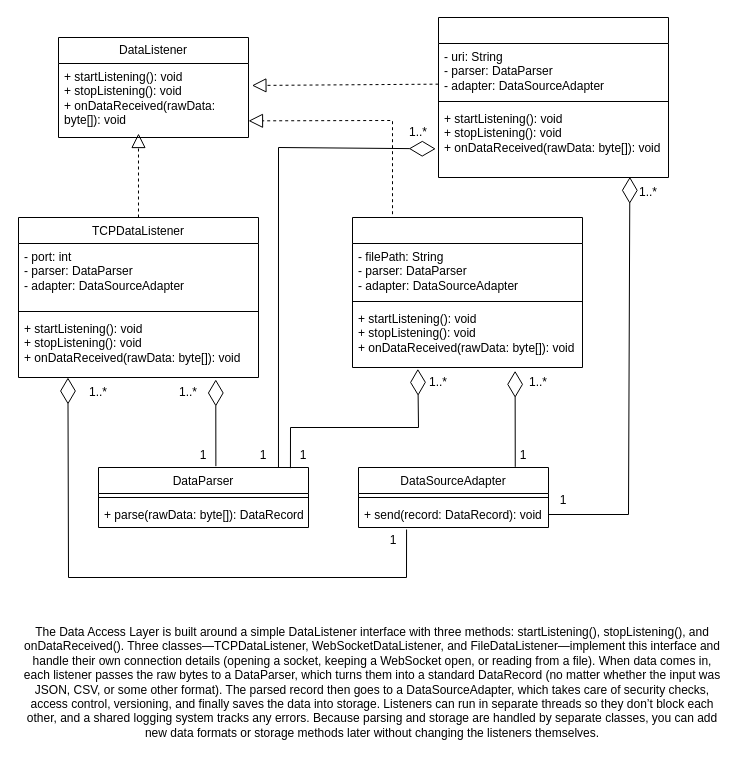
This 744x757 diagram has some shape labels left out. The box of each missing label's shape, as (x1, y1, x2, y2) in pixels:
FileDataListener: (352, 216, 582, 368)
WebSocketDataListener: (438, 16, 668, 178)
